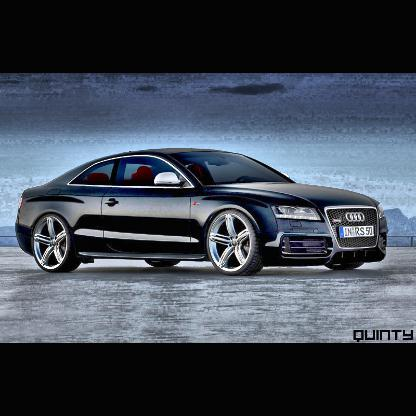Audi S5 Coupe 2012: (16, 146, 390, 279)
